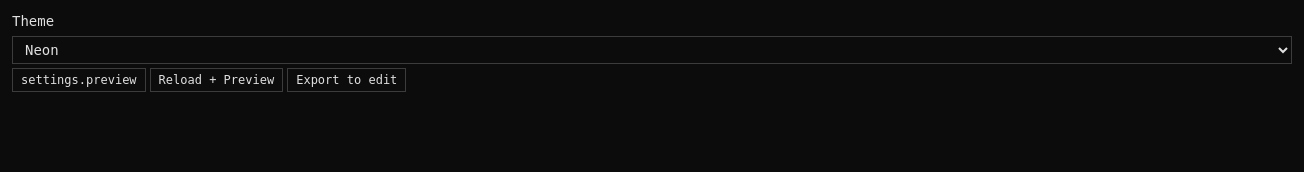
Scenario: ThemeSelect (dropdown) › clears the export result when the selection changes
Click the button with test id "theme-export-button" at (347, 80), box [287,68,406,92]
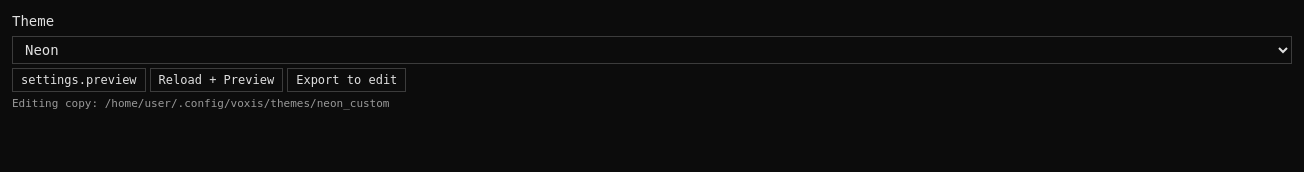
Now the message with test id "theme-export-result" shows "/home/user/.config/voxis/themes/neon_custom", box [105,97,390,110]
Select "Drifting Contour" in the dropdown labelled "Theme" at (652, 50), box [12,36,1292,64]
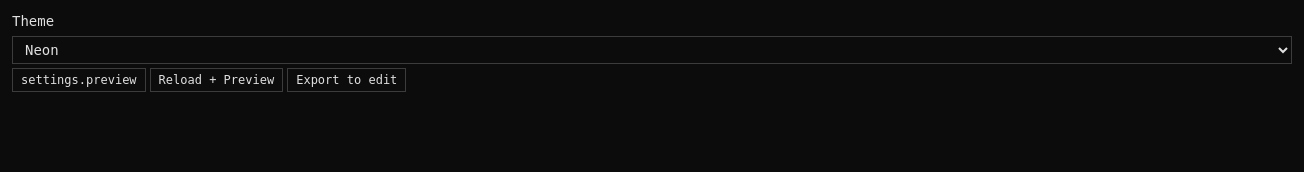
Now the message with test id "theme-export-result" is gone
